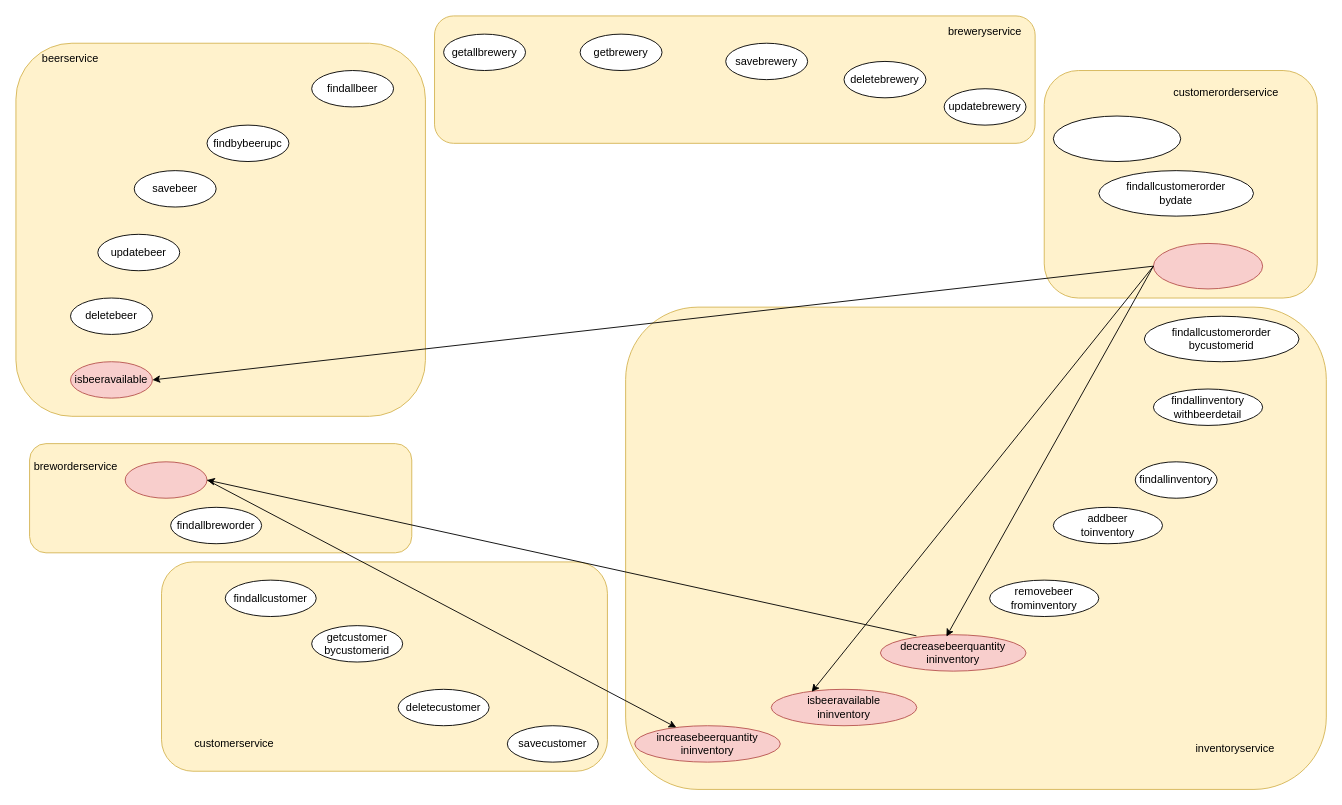
This 1342x805 diagram has some shape labels left out. Each missing label, with the centre of its shape:
"findallcustomerorder" belongs at (x=1116, y=138).
"placecustomerorder" belongs at (x=1208, y=266).
"savebreworder" belongs at (x=165, y=479).
